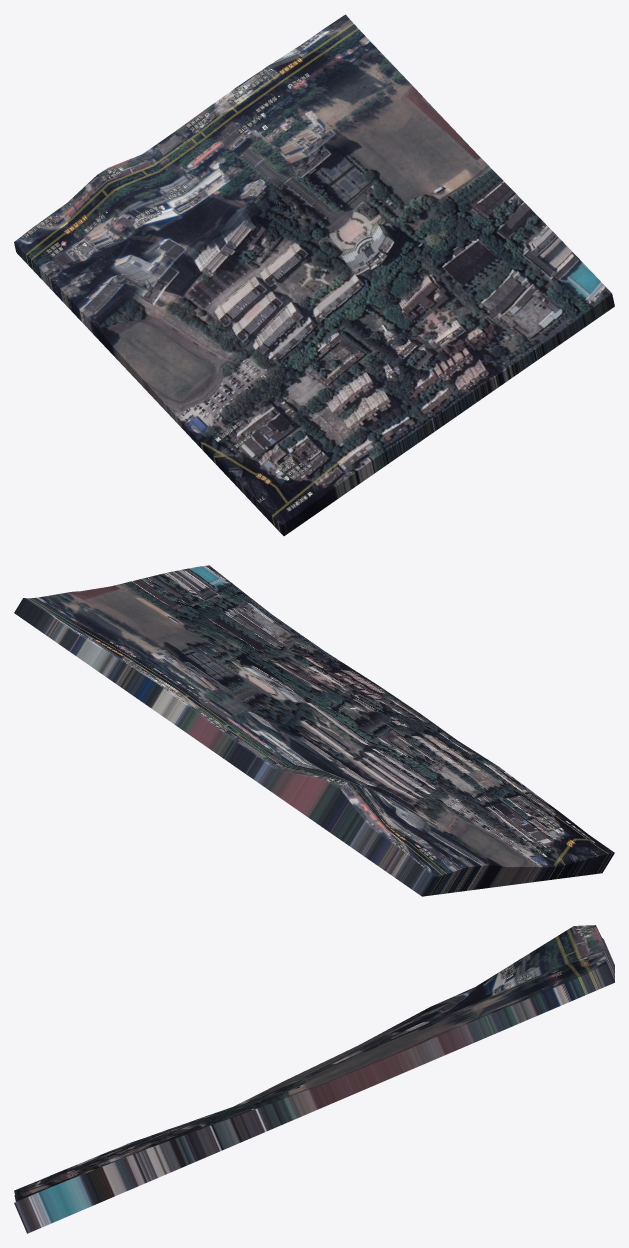
3 views of the same model, one above another, from view 1: azimuth 30°, elevation 25°; view 2: azimuth 150°, elevation 25°; view 3: azimuth 270°, elevation 25° (orthographic). The views are drawn at different scales.
Parts seen in each view (by area): view 1: 0_5_21; view 2: 0_5_21; view 3: 0_5_21.
Boxes of the visible parts, bbox=[...] form: 0_5_21: bbox=[14, 14, 614, 535]; 0_5_21: bbox=[14, 565, 614, 896]; 0_5_21: bbox=[14, 925, 614, 1233].
Bounding box in the file's own units: 601 × 445 × 554.
1 material, 1 textured.
